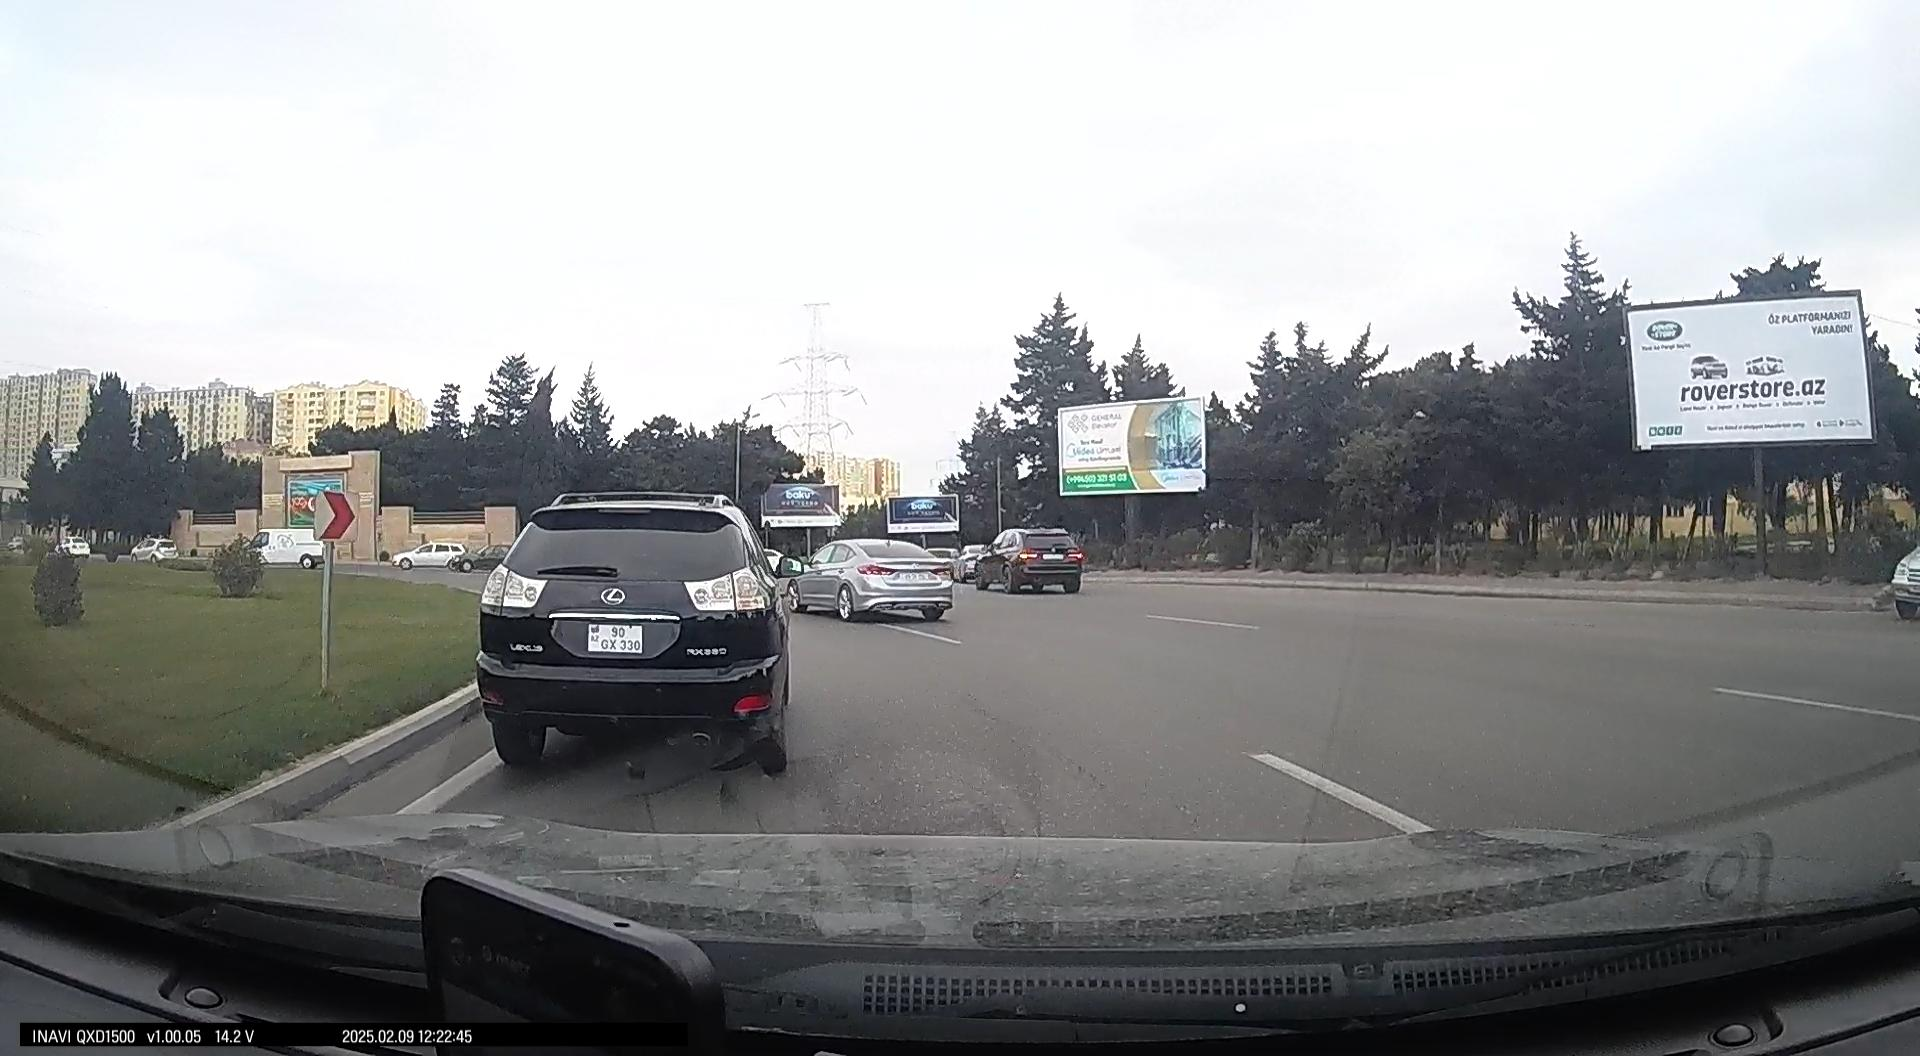banner: (1622, 290, 1876, 453), (1058, 396, 1208, 497), (761, 482, 843, 527), (886, 494, 961, 534)
